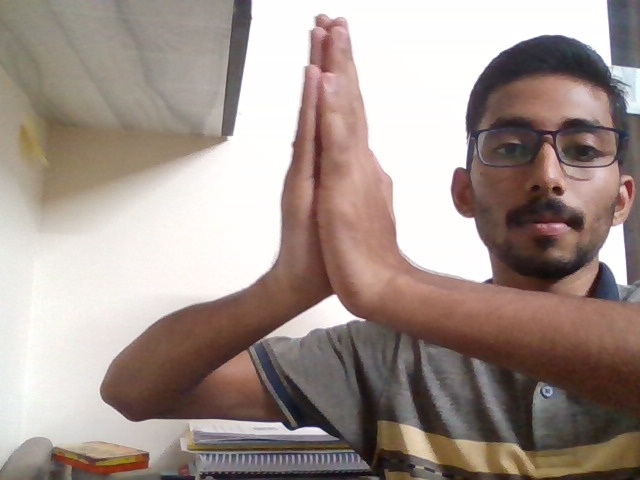Thank You: (249, 1, 429, 362)
